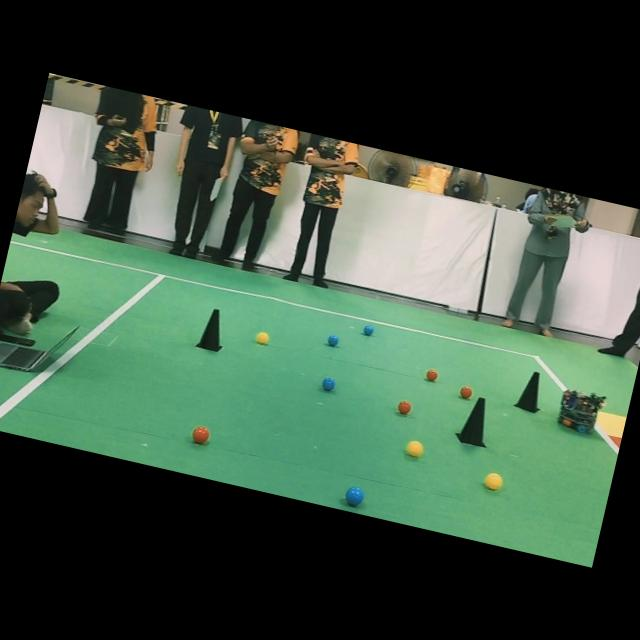ball: (345, 486, 364, 506), (191, 425, 209, 443), (484, 472, 502, 490), (407, 440, 423, 456), (397, 400, 412, 414), (459, 385, 473, 399), (322, 377, 335, 391), (255, 331, 269, 344), (425, 368, 438, 381), (327, 334, 339, 346), (362, 324, 374, 336)
goal: (596, 411, 626, 438), (609, 436, 621, 446)
